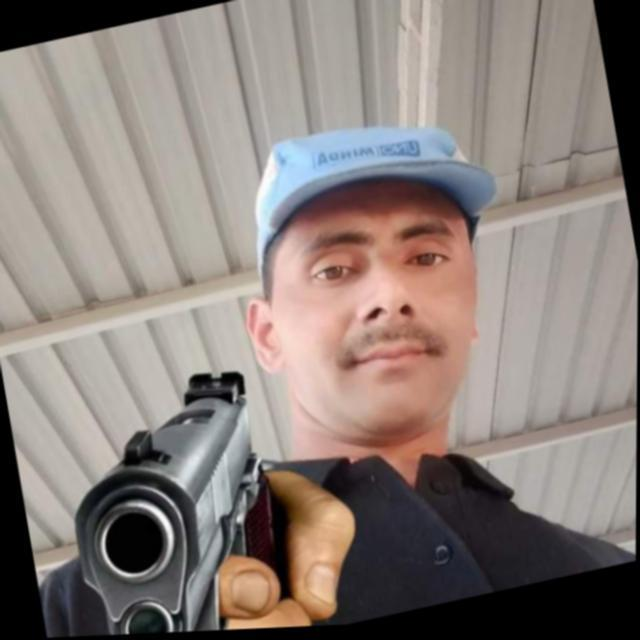weapon: (39, 348, 335, 638)
